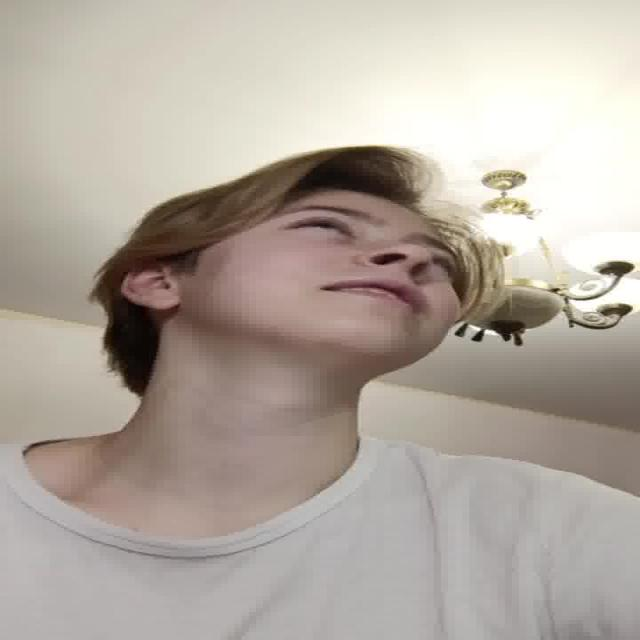earlobe: (140, 294, 182, 312)
eye: (286, 215, 356, 238), (432, 256, 459, 277)
nose: (366, 258, 425, 284)
wholeear: (124, 265, 181, 312)
